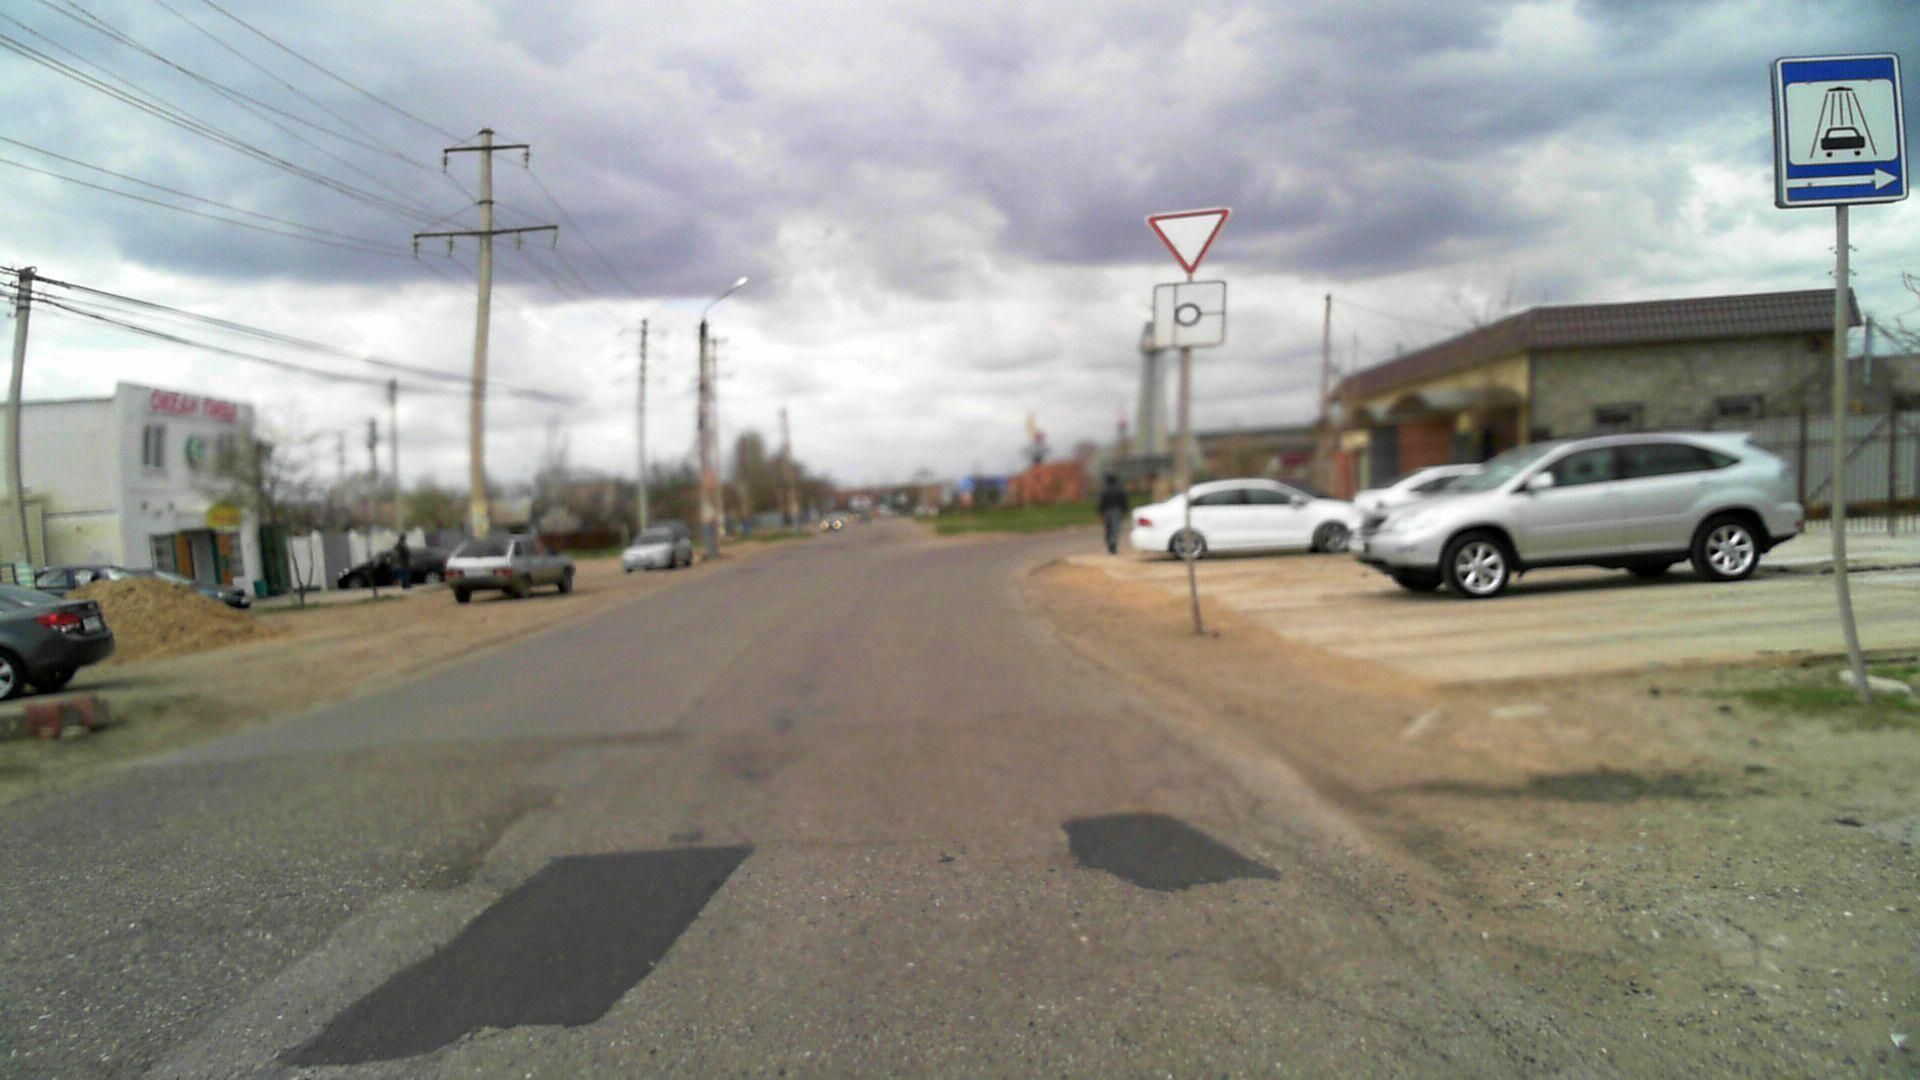2_4: (1148, 208, 1232, 277)
7_5: (1769, 53, 1916, 206)
8_13: (1148, 275, 1229, 349)
